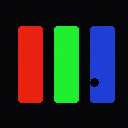0 point: (90, 78, 98, 86)
